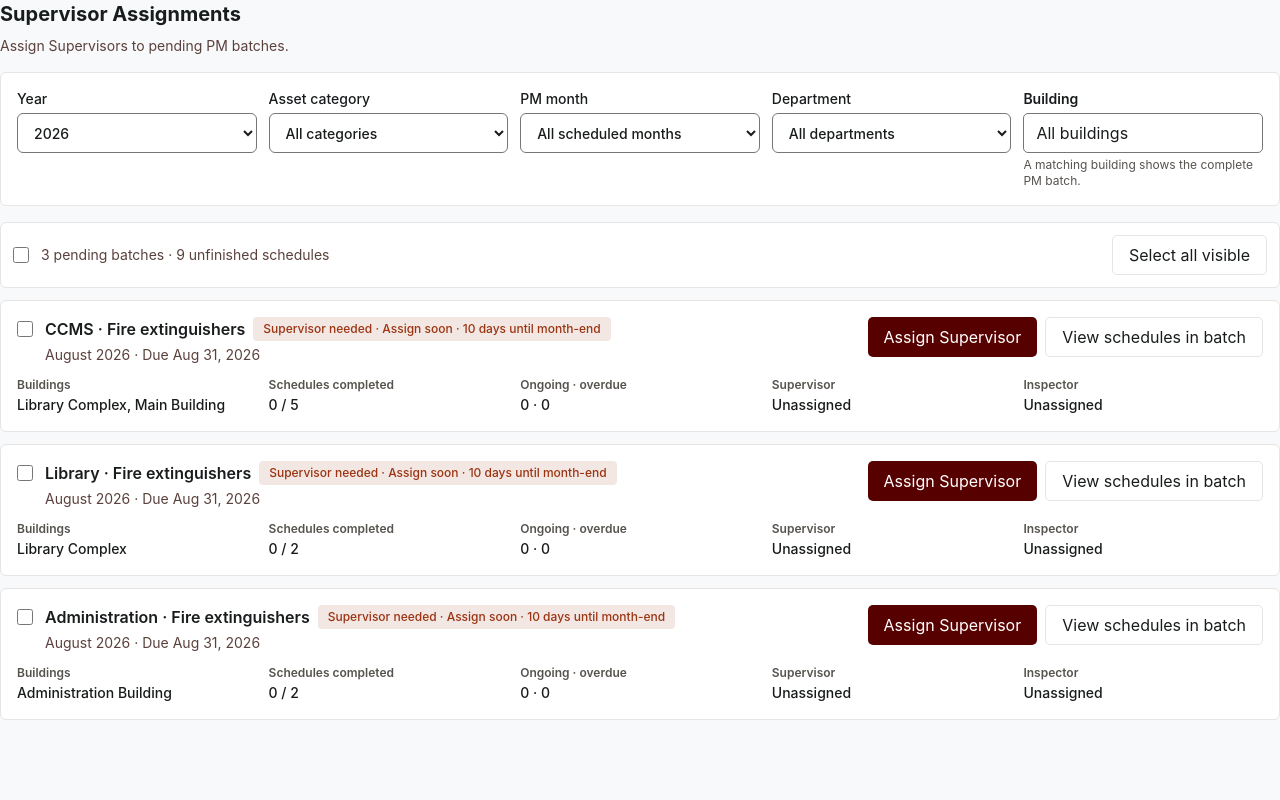
Test: schedule workflows › assigns each selected full batch once and leaves partial failures selected
Type "Library Complex" into the dropdown labelled "Building" at [1143, 133], box [1023, 113, 1263, 153]
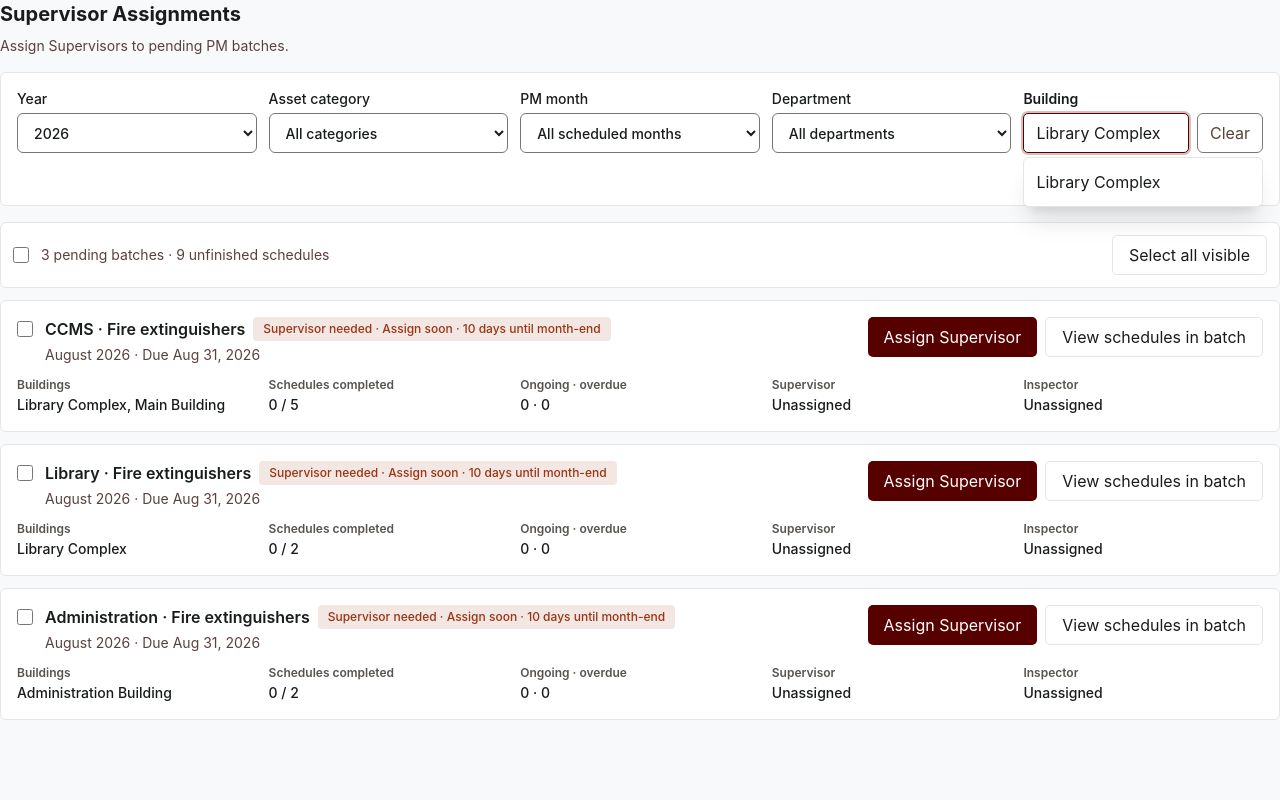
Click the option "Library Complex" at [1143, 182], box [1024, 162, 1262, 202]
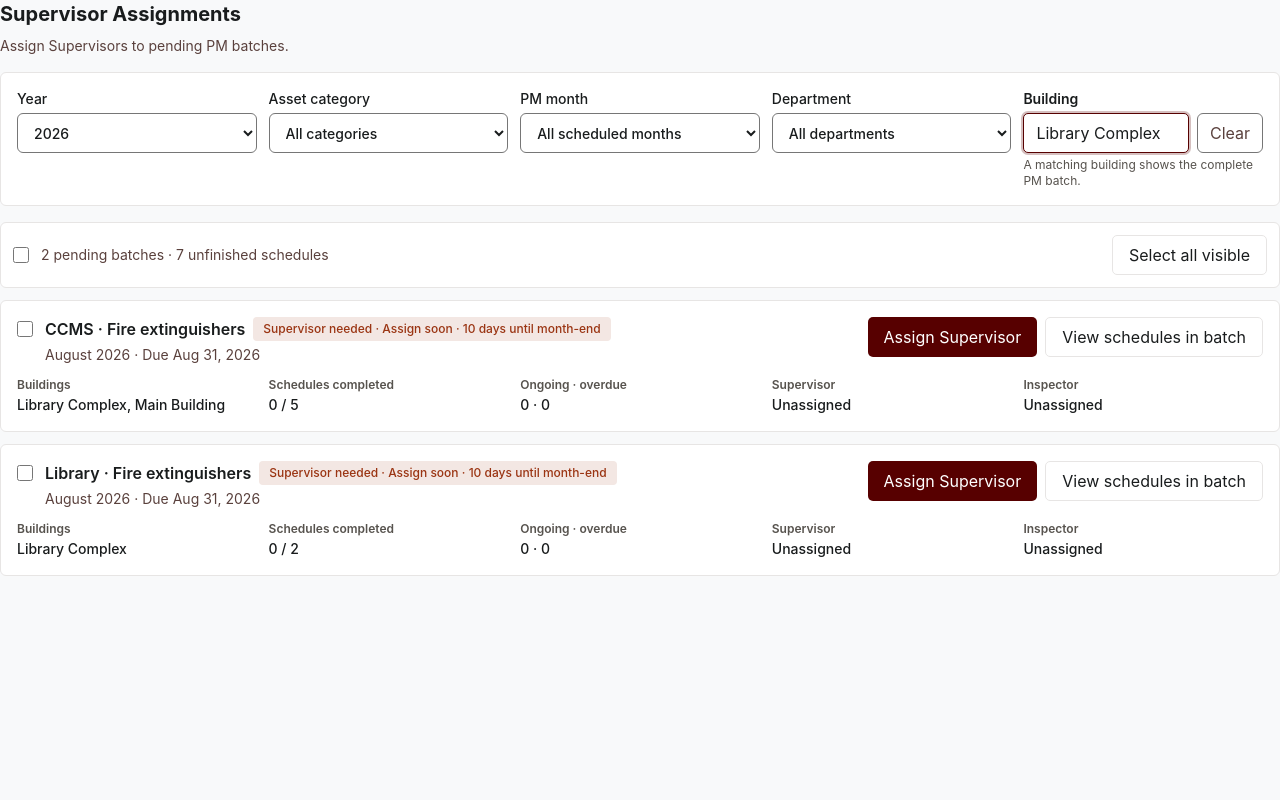
Check: the heading "CCMS · Fire extinguishers" is shown, box [45, 317, 245, 341]
Check: the heading "Administration · Fire extinguishers" is gone
Click the button "Select all visible" at [1189, 255], box [1112, 235, 1267, 275]
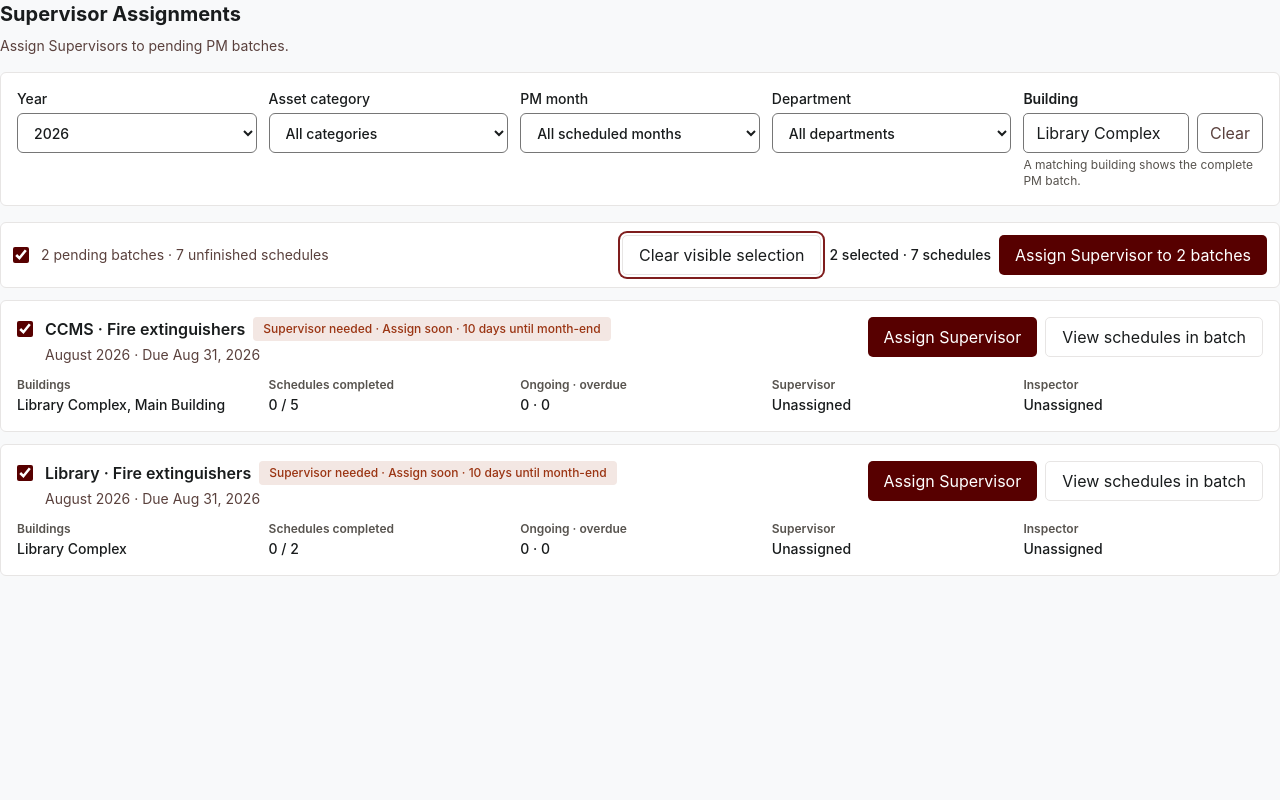
Click the button "Assign Supervisor to 2 batches" at [1133, 255], box [999, 235, 1267, 275]
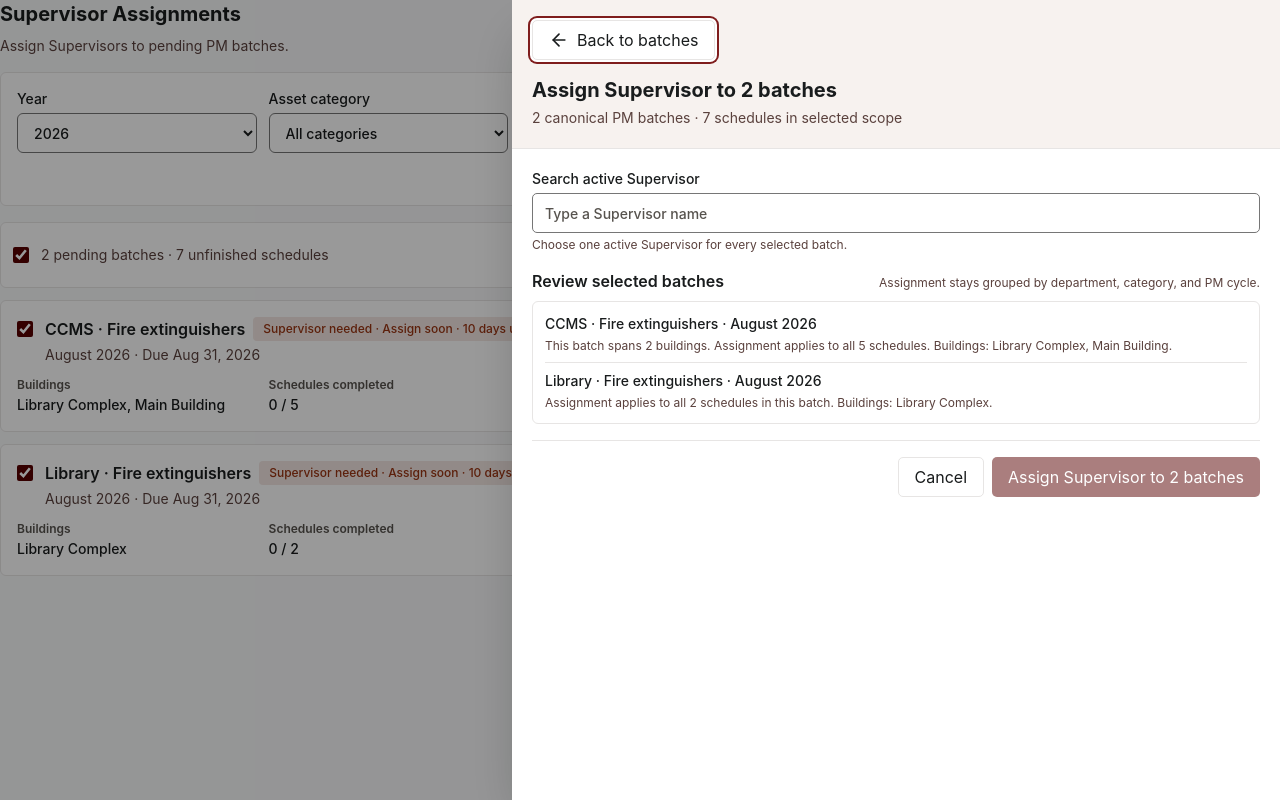
Check: the text "This batch spans 2 buildings. Assignment applies to all 5 schedules. Buildings: Library Complex, Main Building." is shown, box [545, 338, 1247, 354]
Type "Fictional Supervisor" into the field labelled "Search active Supervisor" at [896, 213], box [532, 193, 1260, 233]
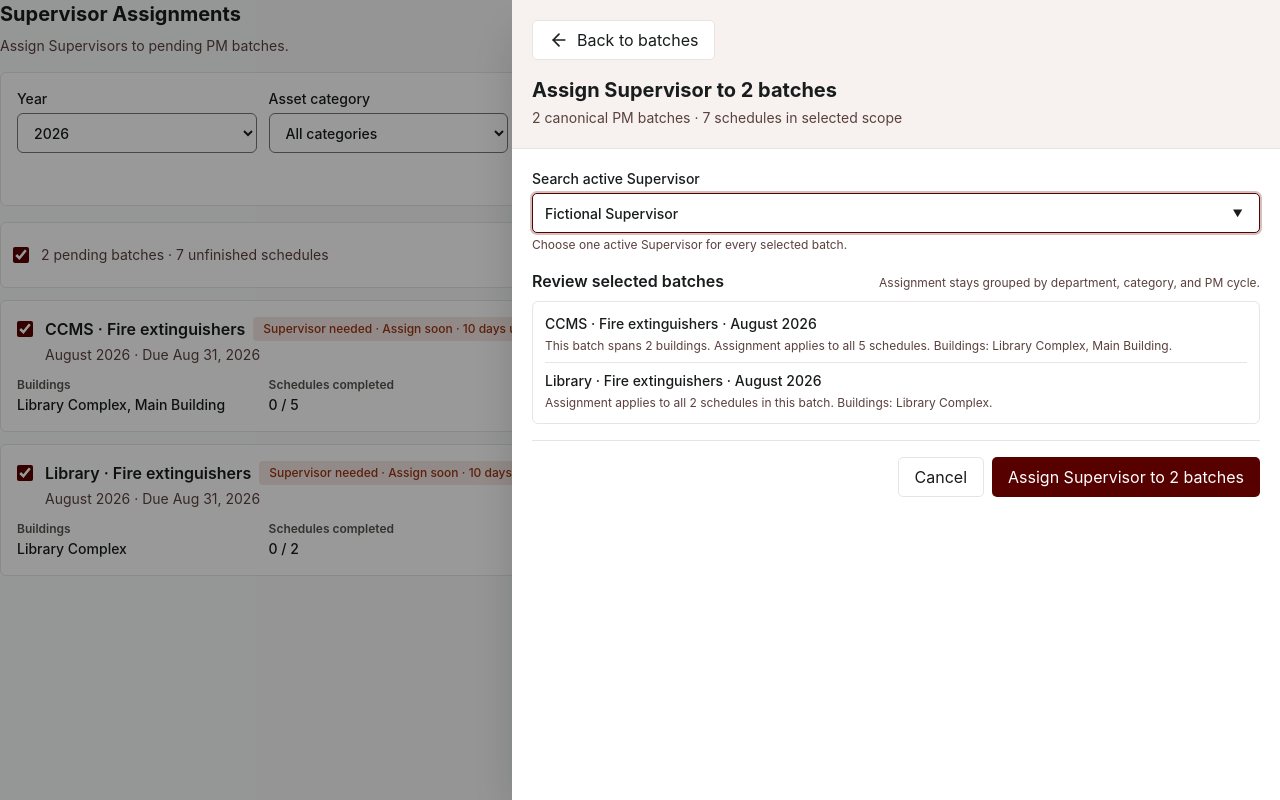
Check: the button "Assign Supervisor to 2 batches" is enabled
Click the button "Assign Supervisor to 2 batches" at [1126, 477], box [992, 457, 1260, 497]
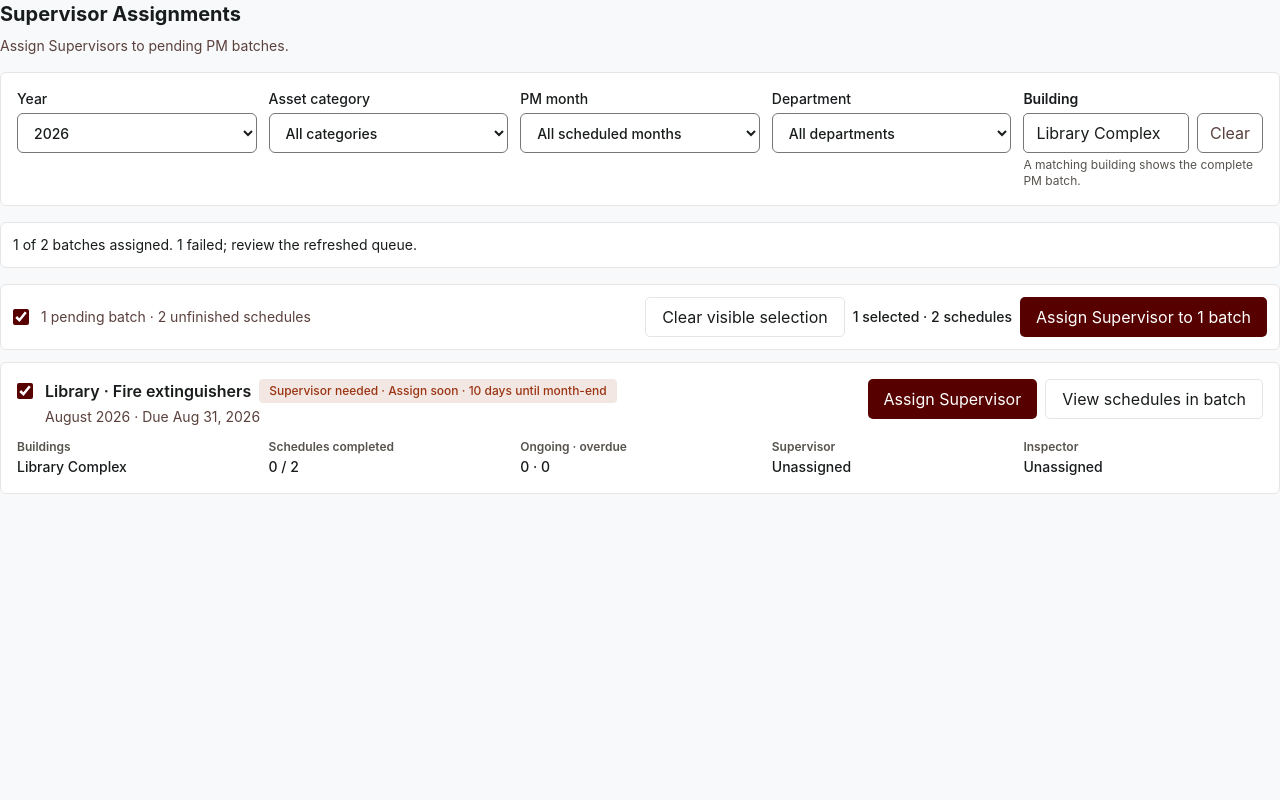
Check: the checkbox named "Select Library Fire extinguishers August 2026 batch" is checked, box [17, 383, 33, 399]
Check: the text "1 of 2 batches assigned. 1 failed; review the refreshed queue." is shown, box [0, 222, 1279, 268]
